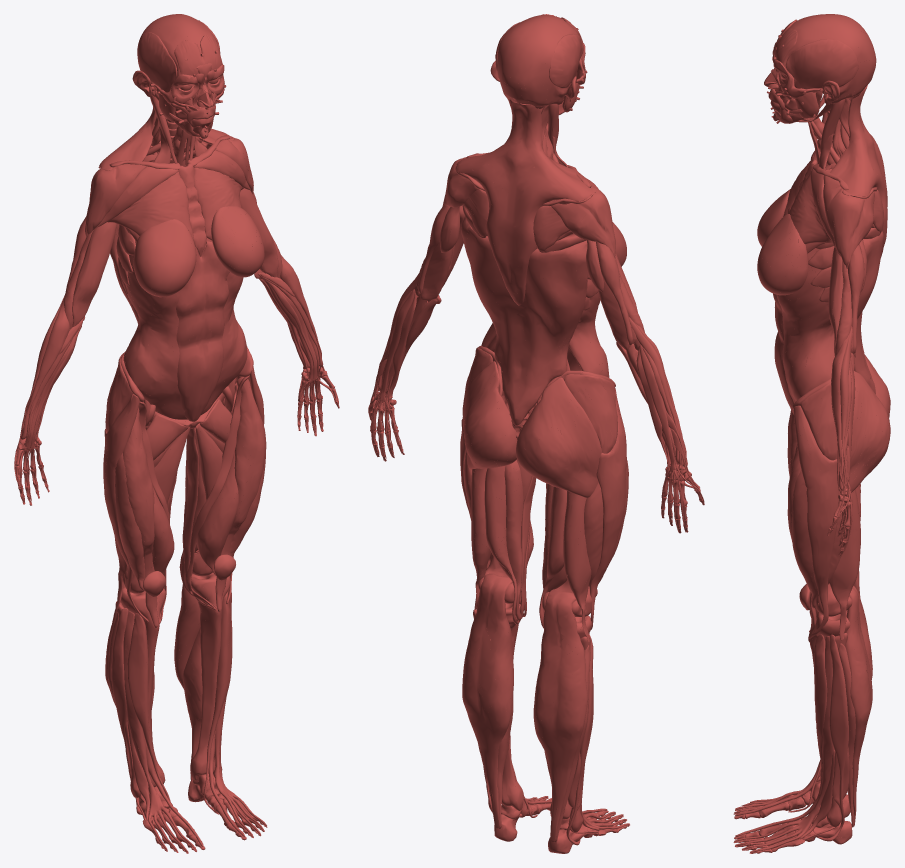
The model's file is muscles.glb.
The picture shows the model from 3 angles, left to right: view 1: azimuth 30°, elevation 25°; view 2: azimuth 150°, elevation 25°; view 3: azimuth 270°, elevation 25°; orthographic projection. The views are drawn at different scales.
Parts seen in each view (by area): view 1: F_Muscle_Object_2, F_Muscle_Object_3_002, F_Muscle_Object_4_001; view 2: F_Muscle_Object_2, F_Muscle_Object_3_002, F_Muscle_Object_4_001; view 3: F_Muscle_Object_2, F_Muscle_Object_3_002, F_Muscle_Object_4_001.
Part boxes in pixels (x1=…): F_Muscle_Object_2: x1=15, y1=14, x2=334, y2=852; F_Muscle_Object_3_002: x1=14, y1=28, x2=338, y2=851; F_Muscle_Object_4_001: x1=15, y1=21, x2=339, y2=853; F_Muscle_Object_2: x1=368, y1=14, x2=698, y2=845; F_Muscle_Object_3_002: x1=368, y1=18, x2=704, y2=853; F_Muscle_Object_4_001: x1=368, y1=14, x2=702, y2=848; F_Muscle_Object_2: x1=734, y1=14, x2=890, y2=845; F_Muscle_Object_3_002: x1=734, y1=20, x2=889, y2=852; F_Muscle_Object_4_001: x1=733, y1=14, x2=889, y2=853.
Bounding box in the file's own units: 0.6807 × 1.6 × 0.2808.
